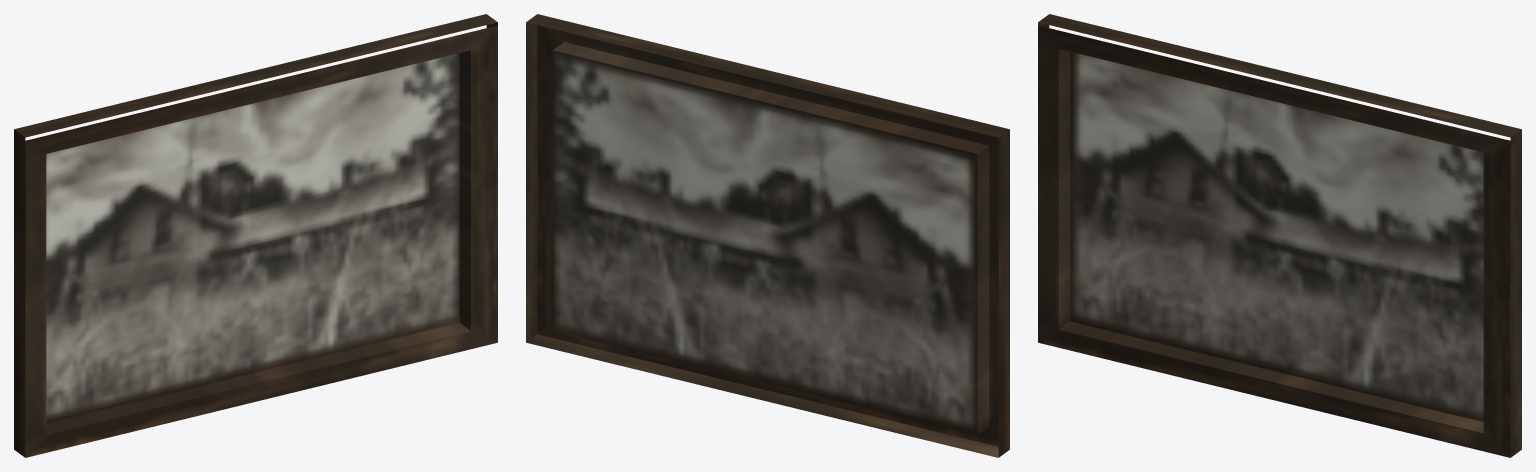
Rendered from cannibal_house_photo.FBX.
3 renders of one model, left to right at view 1: azimuth 30°, elevation 25°; view 2: azimuth 150°, elevation 25°; view 3: azimuth 330°, elevation 25°, orthographic.
Visible parts, largest first — view 1: cannibal_house_photo; view 2: cannibal_house_photo; view 3: cannibal_house_photo.
Part boxes in pixels (<box>): cannibal_house_photo: <box>14,14,497,457</box>; cannibal_house_photo: <box>526,14,1009,457</box>; cannibal_house_photo: <box>1038,14,1521,457</box>.
Size of the model in its own units: 58.9 by 38.16 by 2.46.
